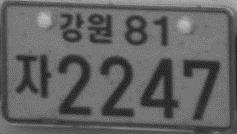1: (150, 15, 173, 46)
2: (98, 54, 135, 116), (56, 53, 92, 115)
4: (138, 57, 179, 118)
7: (182, 58, 220, 121)
8: (123, 14, 147, 46)
강원_H: (59, 11, 113, 44)
자: (15, 53, 52, 98)
